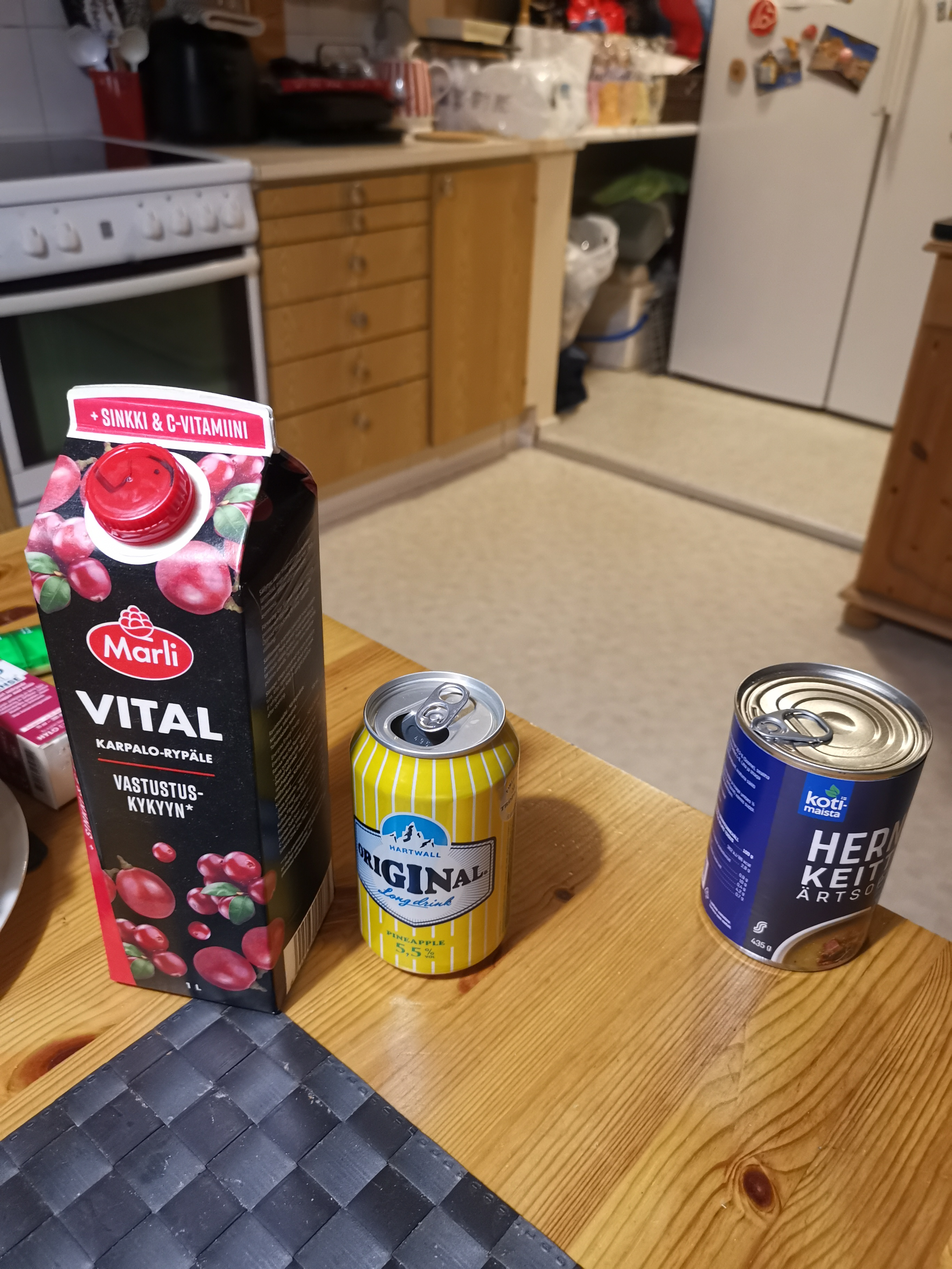Dryckeskartong: (22, 381, 338, 1018)
Konservburk: (696, 658, 938, 976)
Pantburk: (345, 668, 525, 981)
